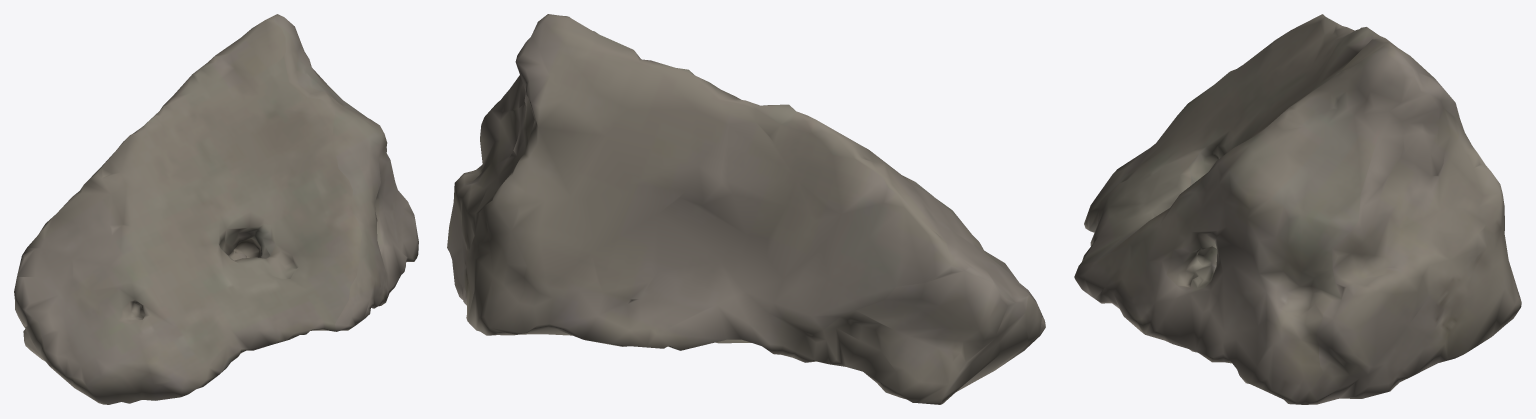
File: moon_rock_07_lod1.glb
The picture shows the model from 3 angles, left to right: view 1: azimuth 30°, elevation 25°; view 2: azimuth 150°, elevation 25°; view 3: azimuth 270°, elevation 25°; orthographic projection. The views are drawn at different scales.
Visible parts, largest first — view 1: moon_rock_07_LOD0; view 2: moon_rock_07_LOD0; view 3: moon_rock_07_LOD0.
Boxes of the visible parts, <box> form: moon_rock_07_LOD0: <box>14,14,418,404</box>; moon_rock_07_LOD0: <box>447,14,1045,404</box>; moon_rock_07_LOD0: <box>1074,14,1521,404</box>.
Size of the model in its own units: 0.0967 by 0.0603 by 0.0738.
1 material, 1 textured.
